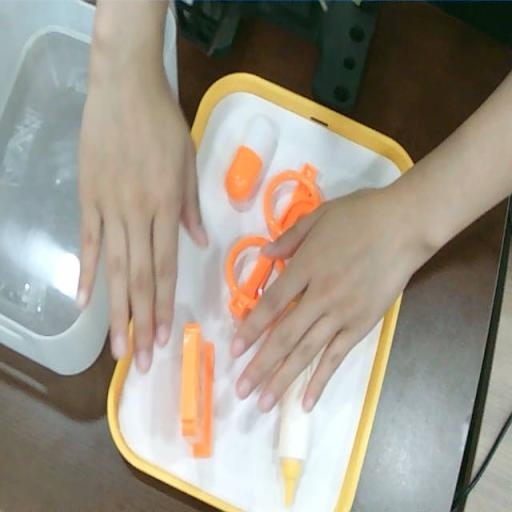hospital: (230, 182, 403, 414), (77, 84, 208, 372)
